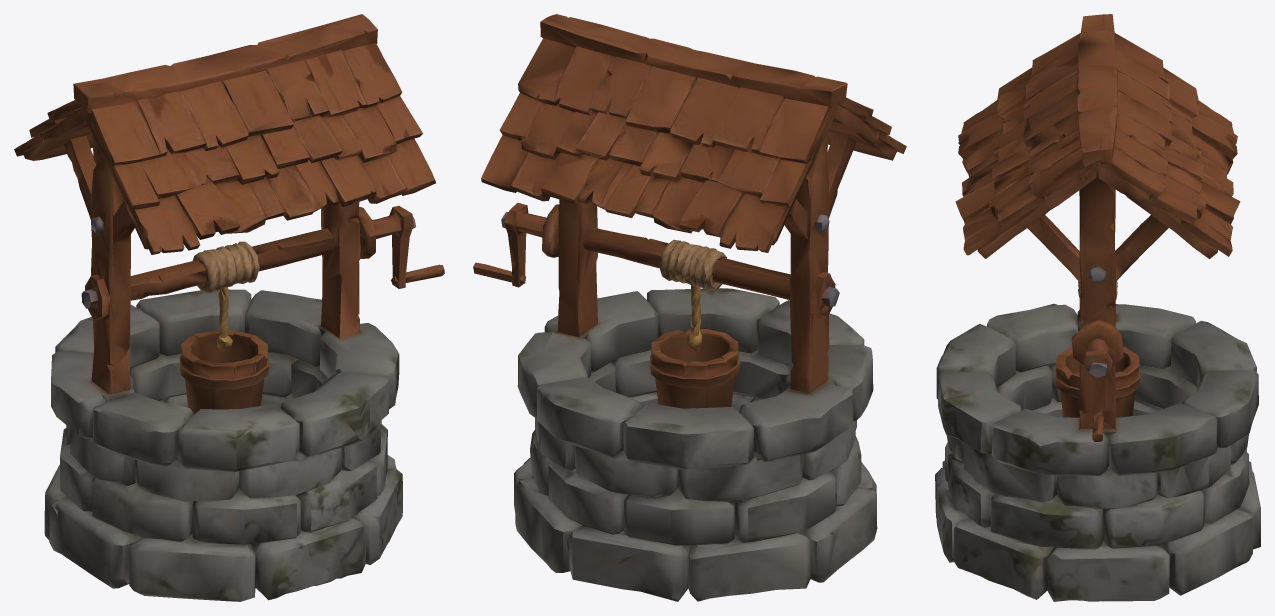
File: well_hand_ruchnoy_kolodets_s_vorotom_idle.glb
3 renders of one model, left to right at view 1: azimuth 30°, elevation 25°; view 2: azimuth 150°, elevation 25°; view 3: azimuth 270°, elevation 25°, orthographic. The views are drawn at different scales.
Parts seen in each view (by area): view 1: tripo_node_5dca4b61-c468-4316-aded-391d3f2fa994; view 2: tripo_node_5dca4b61-c468-4316-aded-391d3f2fa994; view 3: tripo_node_5dca4b61-c468-4316-aded-391d3f2fa994.
Part boxes in pixels (left/top/right/bottom): tripo_node_5dca4b61-c468-4316-aded-391d3f2fa994: left=14, top=14, right=444, bottom=601; tripo_node_5dca4b61-c468-4316-aded-391d3f2fa994: left=473, top=14, right=906, bottom=601; tripo_node_5dca4b61-c468-4316-aded-391d3f2fa994: left=935, top=14, right=1260, bottom=601.
Bounding box in the file's own units: 1.06 × 1.3 × 0.8436.
Materials: 1 (1 with a texture image).
